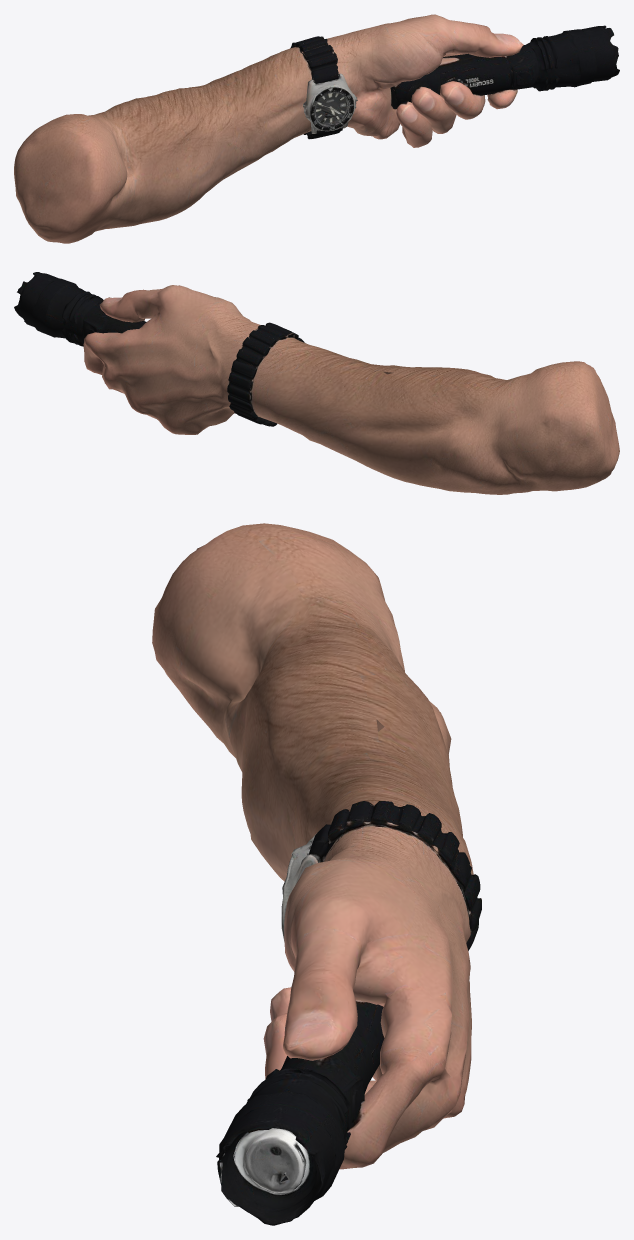
File: fp_hand_torch.glb
The picture shows the model from 3 angles, top to bottom: view 1: azimuth 30°, elevation 25°; view 2: azimuth 150°, elevation 25°; view 3: azimuth 270°, elevation 25°; orthographic projection. The views are drawn at different scales.
Bounding box in the file's own units: 0.9546 × 0.2056 × 0.2324.
1 material, 1 textured.
